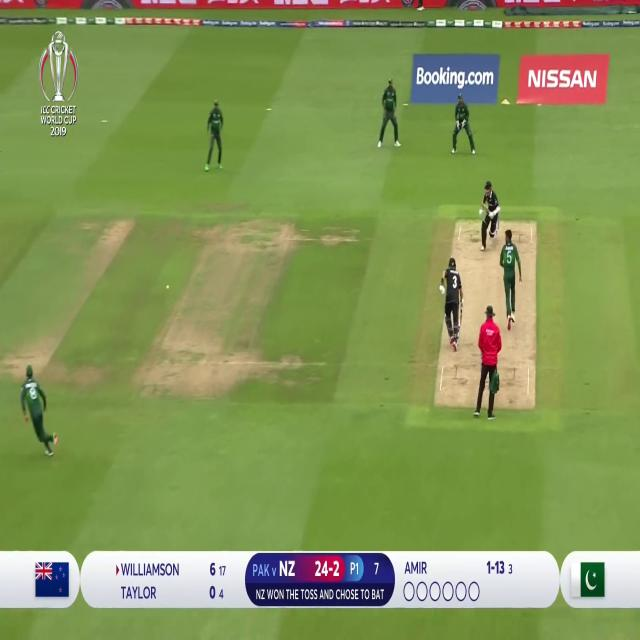bat: (457, 299, 466, 331), (479, 201, 491, 214)
